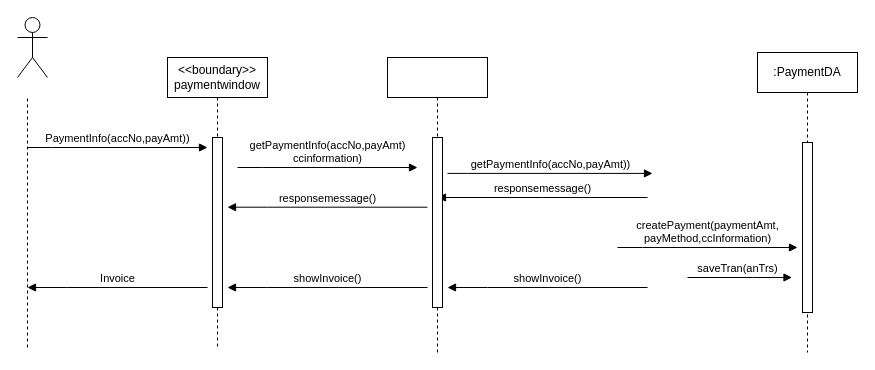
Image size: 875x370. Some labels were removed from this diagram. Each missing label, with the box of its shape:
anPay:Payment: (386, 56, 488, 352)
User: (16, 16, 48, 78)
